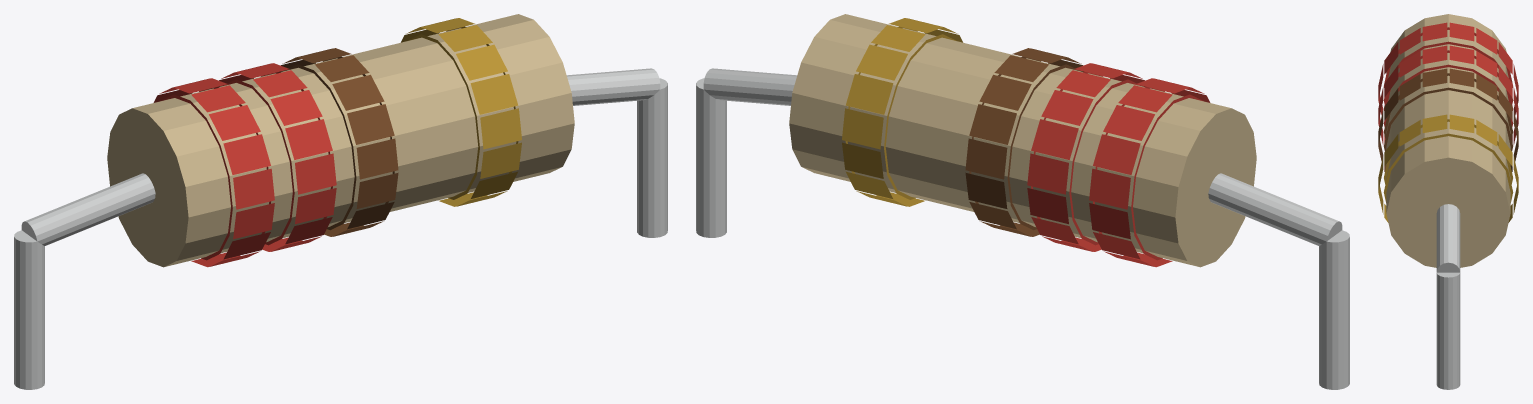
The model's file is resistor.glb.
3 views of the same model, side by side, from view 1: azimuth 30°, elevation 25°; view 2: azimuth 150°, elevation 25°; view 3: azimuth 270°, elevation 25° (orthographic). The views are drawn at different scales.
Parts seen in each view (by area): view 1: static; view 2: static; view 3: static.
Part boxes in pixels (x1,y1,x2,y2): static: (14, 14, 667, 389); static: (696, 14, 1349, 389); static: (1378, 14, 1518, 389).
Size of the model in its own units: 0.0106 by 0.0039 by 0.0026.
